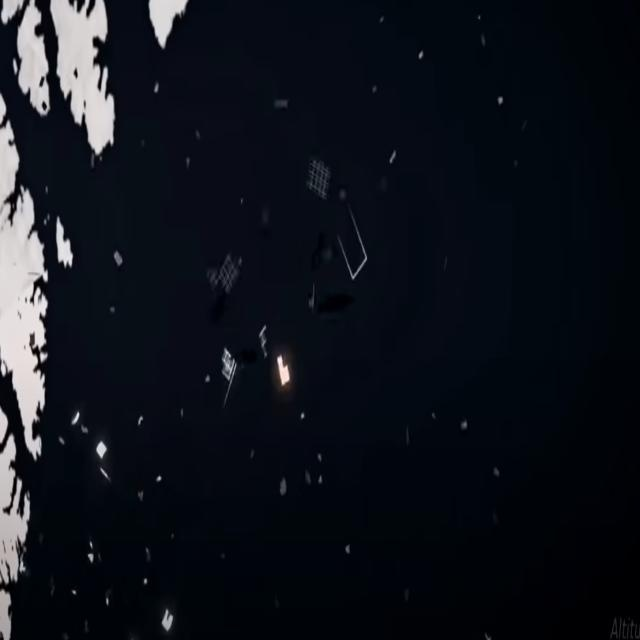large_debris: (332, 191, 372, 309), (300, 135, 337, 217), (206, 249, 239, 299), (214, 329, 235, 403), (251, 313, 272, 379), (91, 436, 116, 476), (278, 341, 290, 406), (160, 604, 179, 640), (300, 404, 312, 427)
